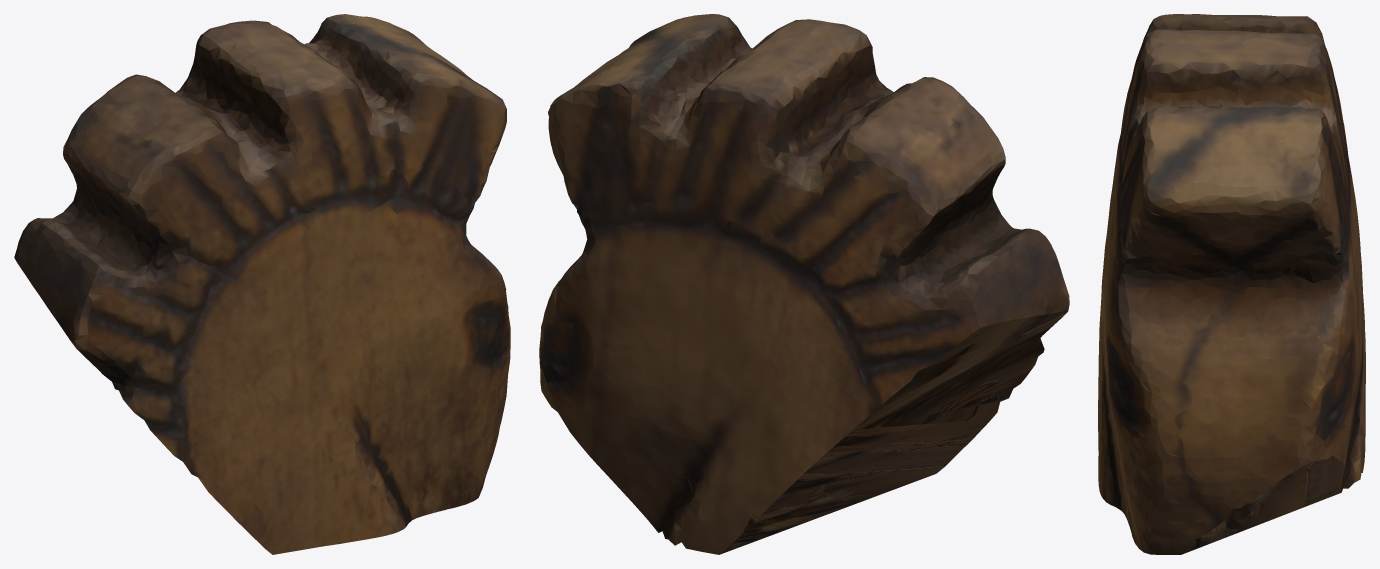
3 views of the same model, side by side, from view 1: azimuth 30°, elevation 25°; view 2: azimuth 150°, elevation 25°; view 3: azimuth 270°, elevation 25° (orthographic). The views are drawn at different scales.
Parts seen in each view (by area): view 1: KLA-Or-10000_cell.007; view 2: KLA-Or-10000_cell.007; view 3: KLA-Or-10000_cell.007.
Boxes of the visible parts, <box> form: KLA-Or-10000_cell.007: <box>14,14,510,554</box>; KLA-Or-10000_cell.007: <box>539,14,1069,554</box>; KLA-Or-10000_cell.007: <box>1098,14,1365,554</box>.
Size of the model in its own units: 35.34 by 34.97 by 19.44.
